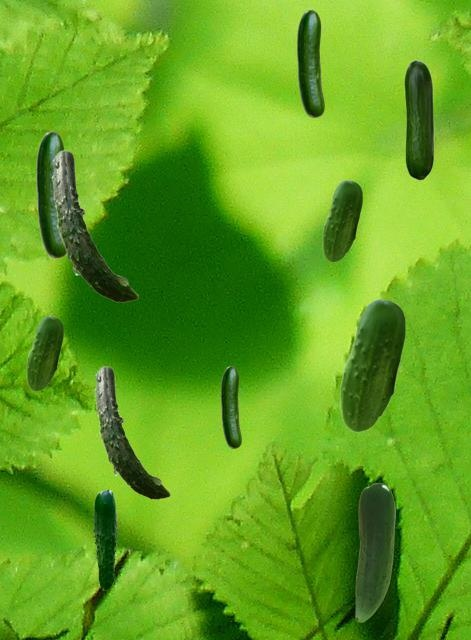cucumber: (51, 150, 137, 301), (94, 366, 169, 498), (340, 299, 404, 431), (355, 483, 394, 621), (36, 131, 65, 257), (404, 60, 433, 179), (322, 180, 361, 261), (297, 10, 323, 116), (26, 316, 62, 390), (93, 489, 117, 589), (221, 366, 240, 447)
